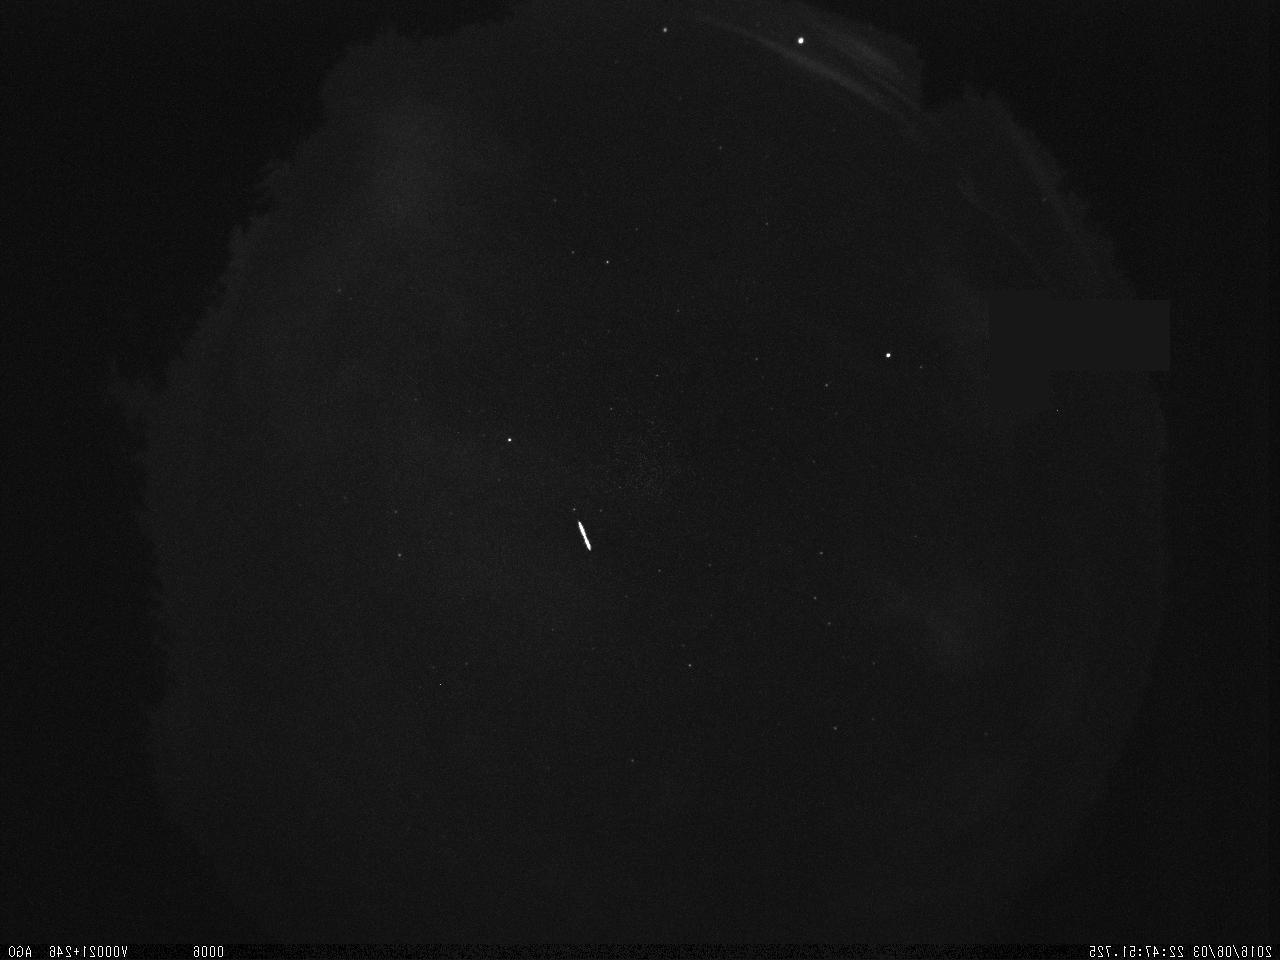satelite: (571, 517, 598, 555)
